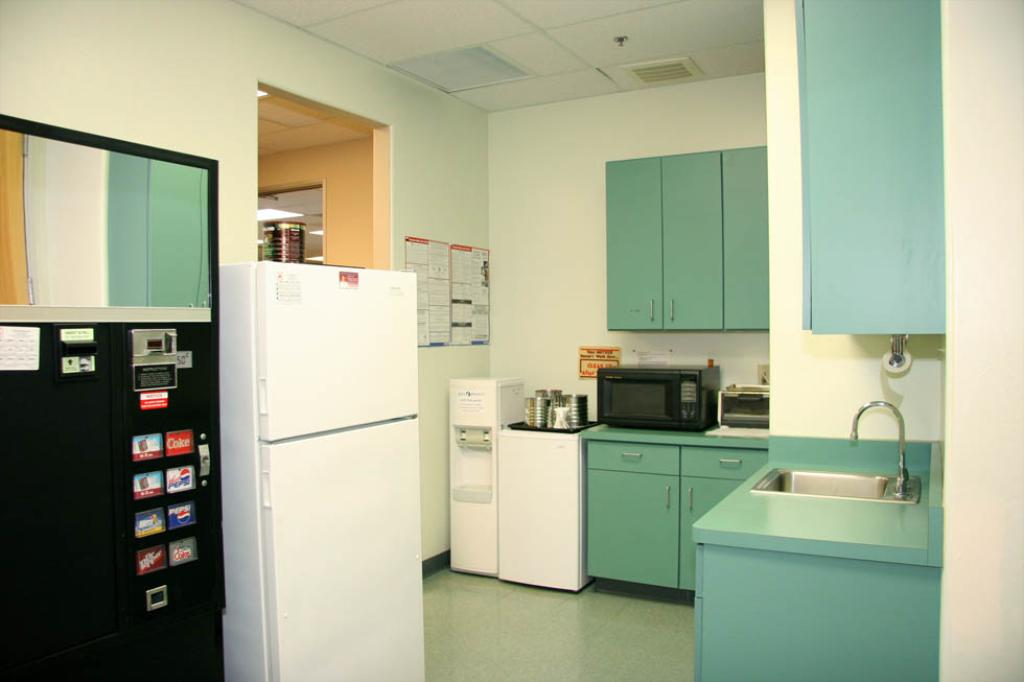cabinet door: (580, 475, 681, 583), (662, 160, 715, 324), (609, 166, 660, 325), (680, 476, 726, 583), (589, 442, 674, 472), (686, 446, 761, 471)
handle: (710, 446, 750, 469), (260, 465, 278, 512), (255, 377, 274, 419), (660, 482, 681, 511), (621, 445, 646, 464), (664, 293, 678, 320), (686, 485, 696, 516), (644, 300, 658, 321)
refrigerator door: (262, 453, 422, 682), (258, 251, 414, 418)
